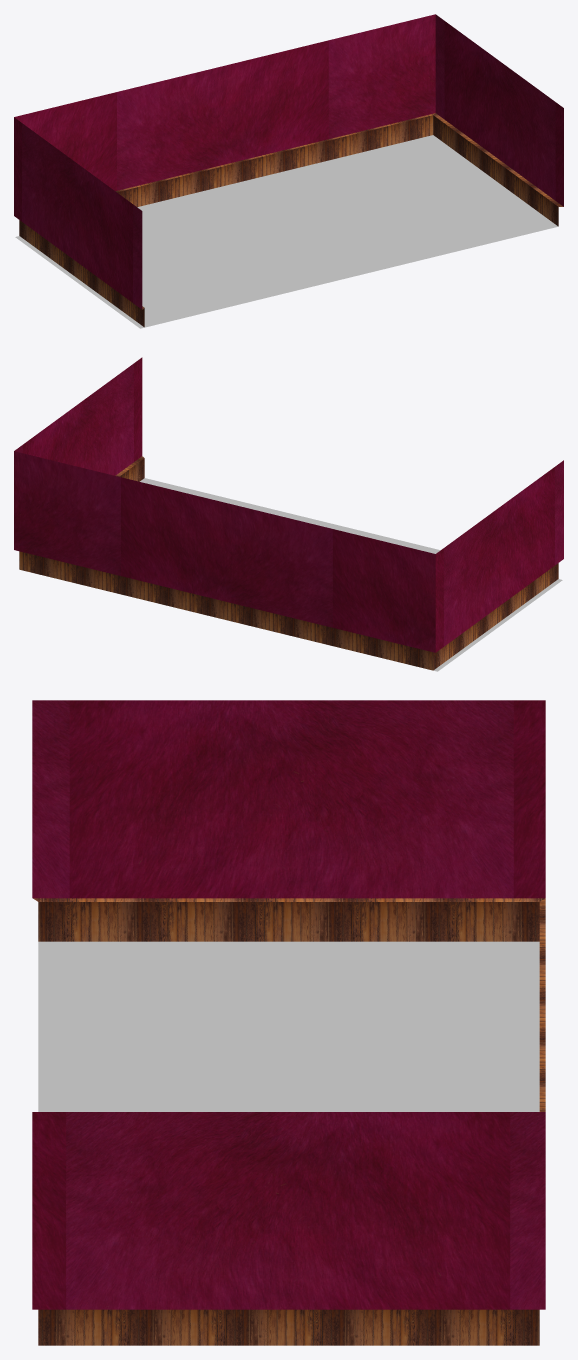
File: newRoom.fbx
3 renders of one model, top to bottom at view 1: azimuth 30°, elevation 25°; view 2: azimuth 150°, elevation 25°; view 3: azimuth 270°, elevation 25°, orthographic. The views are drawn at different scales.
Parts seen in each view (by area): view 1: room, room.001; view 2: room, room.001; view 3: room, room.001.
Boxes of the visible parts, x1=… form: room: x1=14, y1=14, x2=563, y2=327; room.001: x1=15, y1=135, x2=557, y2=328; room: x1=14, y1=357, x2=563, y2=670; room.001: x1=140, y1=478, x2=562, y2=671; room: x1=32, y1=700, x2=545, y2=1345; room.001: x1=38, y1=941, x2=539, y2=1111.
Size of the model in its own units: 23.35 by 12.29 by 6.27.
